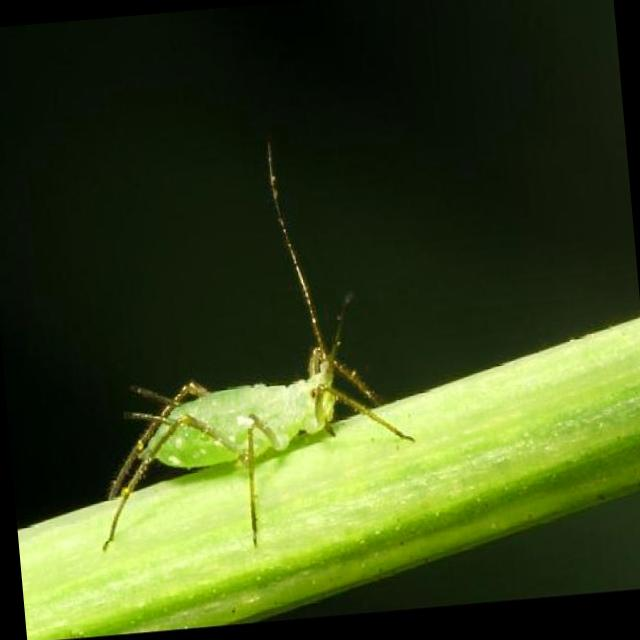aphid: (77, 192, 424, 548)
